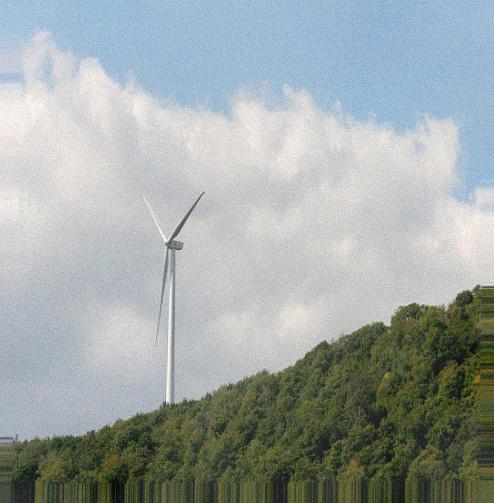wind turbine: (140, 191, 207, 410)
